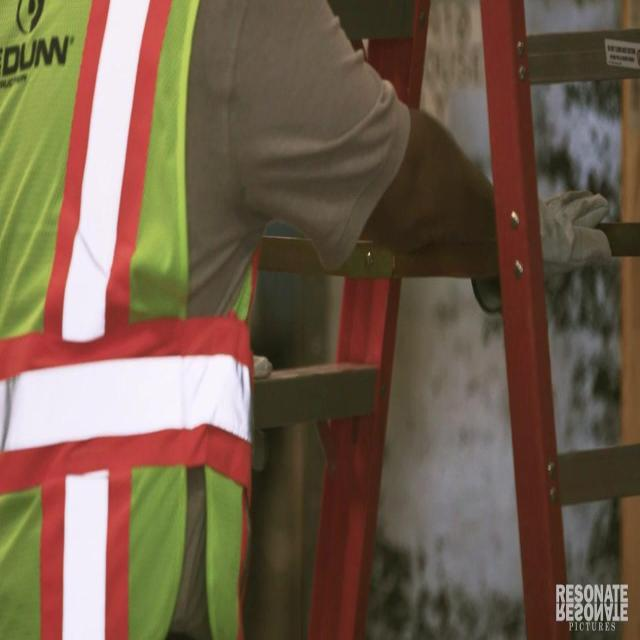Vest: (0, 0, 262, 638)
